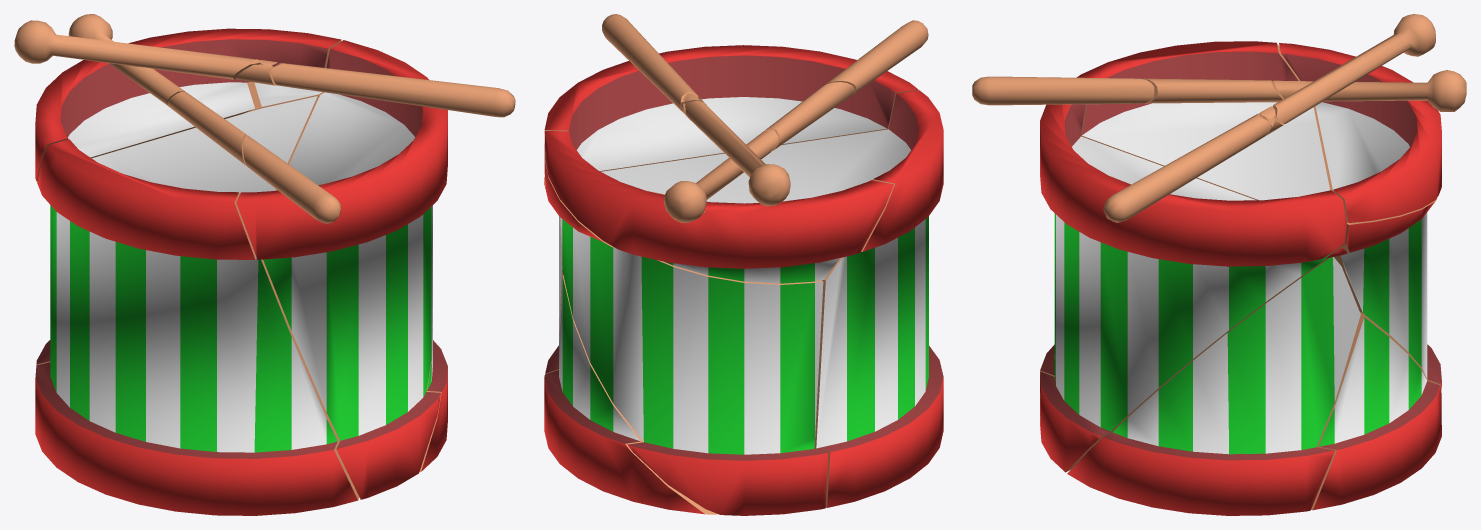
File: Drum_Broken.fbx
3 renders of one model, left to right at view 1: azimuth 30°, elevation 25°; view 2: azimuth 150°, elevation 25°; view 3: azimuth 270°, elevation 25°, orthographic. The views are drawn at different scales.
Parts seen in each view (by area): view 1: Rumpusetti.001_cell.006, Rumpusetti.001_cell.008, Rumpusetti.001_cell.005, Rumpusetti.001_cell.004, Rumpusetti.001_cell.010, Rumpusetti.001_cell.001, Rumpusetti.001_cell.011, Rumpusetti.001_cell.003, Rumpusetti.001_cell.002, Rumpusetti.001_cell.012; view 2: Rumpusetti.001_cell.002, Rumpusetti.001_cell.006, Rumpusetti.001_cell.005, Rumpusetti.001_cell.008, Rumpusetti.001_cell, Rumpusetti.001_cell.010, Rumpusetti.001_cell.004, Rumpusetti.001_cell.001, Rumpusetti.001_cell.011, Rumpusetti.001_cell.003; view 3: Rumpusetti.001_cell.008, Rumpusetti.001_cell.003, Rumpusetti.001_cell.006, Rumpusetti.001_cell.005, Rumpusetti.001_cell, Rumpusetti.001_cell.002, Rumpusetti.001_cell.001, Rumpusetti.001_cell.004, Rumpusetti.001_cell.010, Rumpusetti.001_cell.011.
Part boxes in pixels (box(x1,y1,x2,y2)): Rumpusetti.001_cell.006: box(35, 96, 359, 515); Rumpusetti.001_cell.008: box(236, 40, 447, 499); Rumpusetti.001_cell.005: box(35, 14, 341, 181); Rumpusetti.001_cell.004: box(270, 62, 515, 117); Rumpusetti.001_cell.010: box(14, 20, 262, 79); Rumpusetti.001_cell.001: box(243, 135, 341, 223); Rumpusetti.001_cell.011: box(167, 91, 246, 165); Rumpusetti.001_cell.003: box(419, 311, 447, 472); Rumpusetti.001_cell.002: box(36, 82, 324, 365); Rumpusetti.001_cell.012: box(235, 64, 275, 85); Rumpusetti.001_cell.002: box(545, 161, 828, 515); Rumpusetti.001_cell.006: box(601, 90, 943, 507); Rumpusetti.001_cell.005: box(544, 129, 893, 283); Rumpusetti.001_cell.008: box(544, 45, 918, 174); Rumpusetti.001_cell: box(544, 275, 717, 514); Rumpusetti.001_cell.010: box(685, 101, 790, 206); Rumpusetti.001_cell.004: box(602, 14, 700, 112); Rumpusetti.001_cell.001: box(823, 20, 928, 94); Rumpusetti.001_cell.011: box(764, 82, 854, 151); Rumpusetti.001_cell.003: box(545, 216, 563, 374); Rumpusetti.001_cell.008: box(1040, 104, 1347, 472); Rumpusetti.001_cell.003: box(1067, 257, 1360, 515); Rumpusetti.001_cell.006: box(1040, 41, 1332, 434); Rumpusetti.001_cell.005: box(1273, 43, 1466, 222); Rumpusetti.001_cell: box(1311, 315, 1441, 510); Rumpusetti.001_cell.002: box(1334, 198, 1441, 388); Rumpusetti.001_cell.001: box(972, 76, 1154, 105); Rumpusetti.001_cell.004: box(1103, 113, 1271, 222); Rumpusetti.001_cell.010: box(1273, 14, 1435, 123); Rumpusetti.001_cell.011: box(1141, 78, 1283, 103).
Size of the model in its own units: 43.86 by 40 by 49.77.
